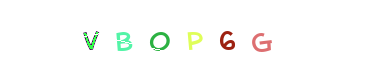6: (161, 0, 241, 80)
B: (96, 0, 176, 80)
G: (197, 0, 277, 80)
O: (145, 0, 225, 80)
P: (154, 0, 234, 80)
V: (89, 0, 169, 80)
